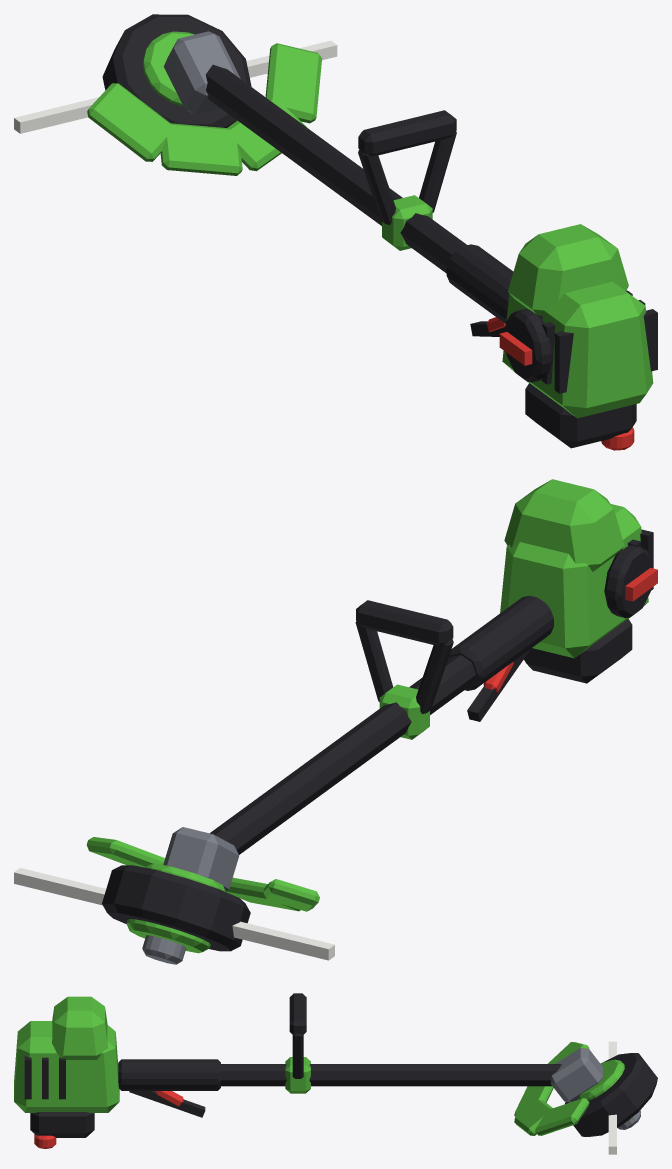
Rendered from tool_whacker.glb.
3 views of the same model, one above another, from view 1: azimuth 30°, elevation 25°; view 2: azimuth 150°, elevation 25°; view 3: azimuth 270°, elevation 25° (orthographic). The views are drawn at different scales.
Parts seen in each view (by area): view 1: SmoothPlastic__58BE40, SmoothPlastic__24242A, Metal__787C86, SmoothPlastic__F5F5F0, SmoothPlastic__E2342E; view 2: SmoothPlastic__24242A, SmoothPlastic__58BE40, Metal__787C86, SmoothPlastic__F5F5F0, SmoothPlastic__E2342E; view 3: SmoothPlastic__24242A, SmoothPlastic__58BE40, Metal__787C86, SmoothPlastic__E2342E, SmoothPlastic__F5F5F0.
Boxes of the visible parts, x1,y1,x2,y2 form: SmoothPlastic__58BE40: (87,31,653,418); SmoothPlastic__24242A: (102,14,657,448); Metal__787C86: (163,31,240,114); SmoothPlastic__F5F5F0: (14,40,337,133); SmoothPlastic__E2342E: (487,317,634,450); SmoothPlastic__24242A: (102,529,653,951); SmoothPlastic__58BE40: (86,479,648,953); Metal__787C86: (142,827,239,964); SmoothPlastic__F5F5F0: (14,868,334,960); SmoothPlastic__E2342E: (483,568,657,692); SmoothPlastic__24242A: (24,993,657,1137); SmoothPlastic__58BE40: (14,996,632,1135); Metal__787C86: (550,1047,640,1129); SmoothPlastic__E2342E: (34,1091,183,1148); SmoothPlastic__F5F5F0: (608,1041,616,1154).
Bounding box in the file's own units: 2.9 × 1.72 × 7.51.
